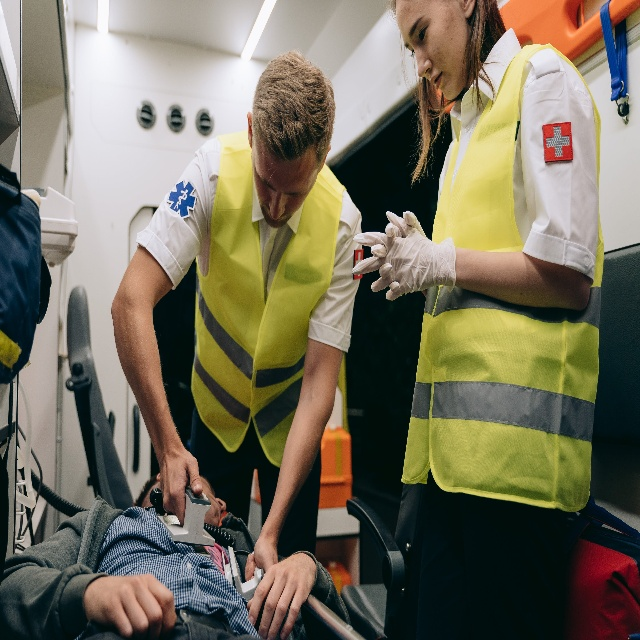Guantes: (365, 202, 460, 303), (354, 211, 411, 292)
Sin_guantes: (248, 557, 320, 640), (98, 574, 176, 634), (159, 449, 205, 522), (245, 541, 278, 583)
